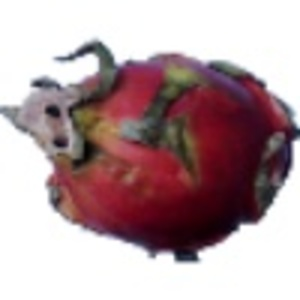pitaia: (1, 37, 300, 265)
